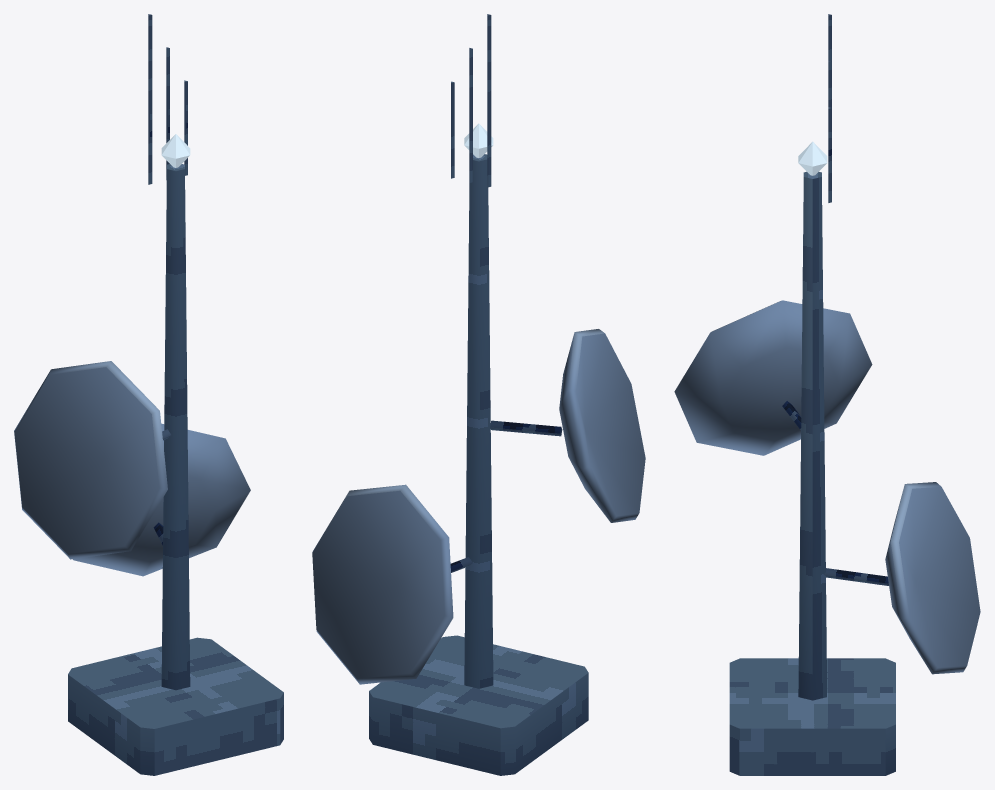
File: cytech.antenna.glb
3 renders of one model, left to right at view 1: azimuth 30°, elevation 25°; view 2: azimuth 150°, elevation 25°; view 3: azimuth 270°, elevation 25°, orthographic.
Parts seen in each view (by area): view 1: kit_mast, kit_beacon; view 2: kit_mast; view 3: kit_mast, kit_beacon.
Boxes of the visible parts, left/top/right/bottom form: kit_mast: left=14, top=14, right=283, bottom=775; kit_beacon: left=161, top=134, right=190, bottom=167; kit_mast: left=312, top=14, right=645, bottom=775; kit_mast: left=674, top=14, right=980, bottom=775; kit_beacon: left=798, top=141, right=827, bottom=175.
Size of the model in its own units: 1.47 by 3.8 by 1.47.
Materials: 5 (4 with a texture image).
